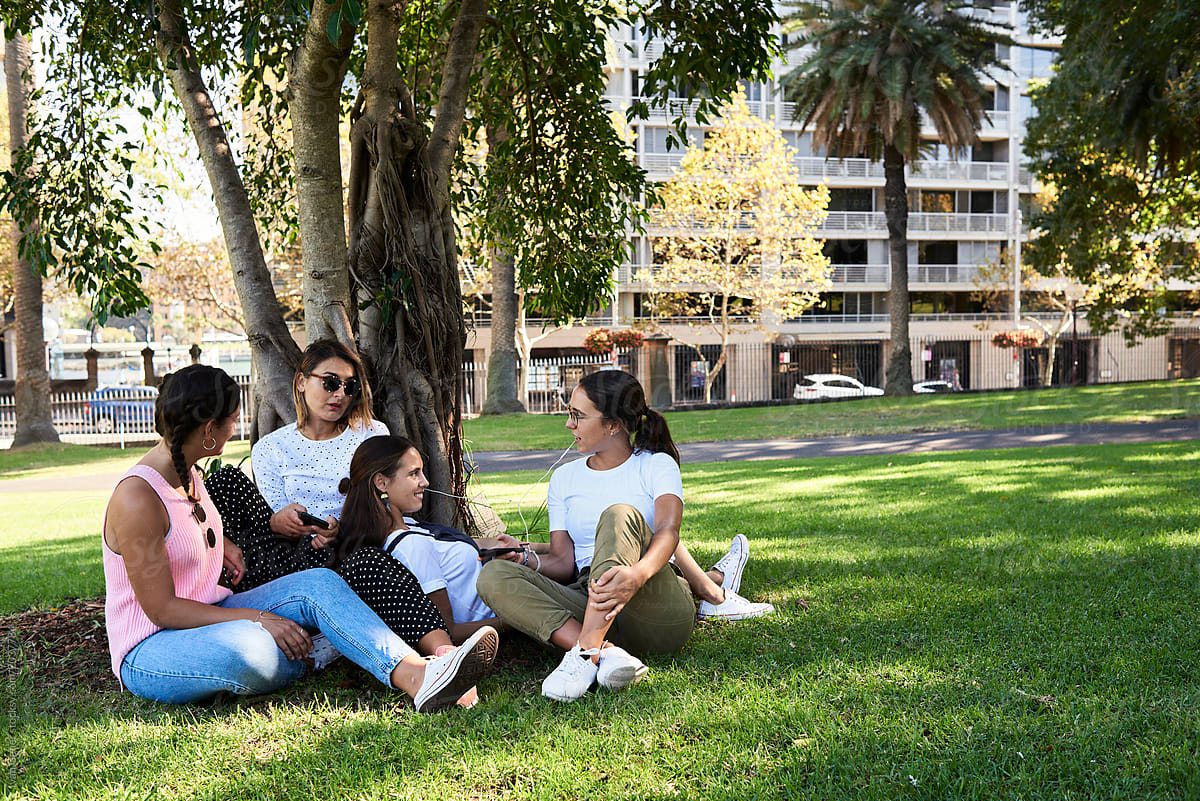Person: (84, 357, 537, 715), (320, 425, 824, 659), (475, 364, 724, 706), (243, 332, 443, 564)
